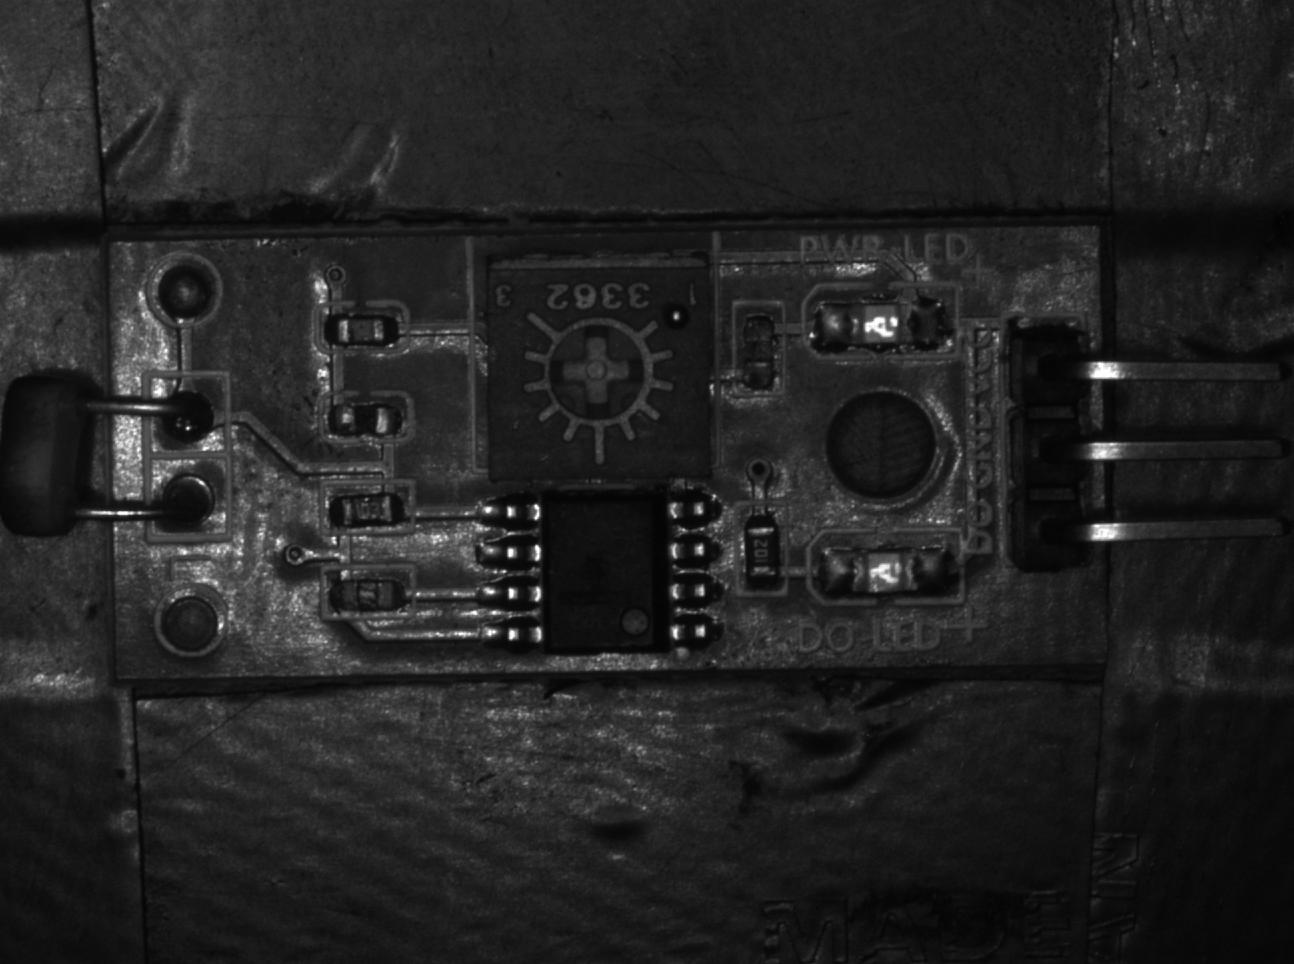miss: (325, 561, 415, 626), (318, 391, 415, 446), (735, 299, 786, 398)
ok: (315, 298, 411, 360), (321, 478, 416, 541), (735, 508, 793, 604)
